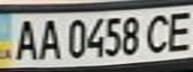0: (63, 16, 87, 60)
4: (84, 15, 109, 58)
5: (103, 14, 124, 57)
8: (121, 12, 145, 56)
A: (6, 16, 42, 62), (33, 16, 63, 61)
C: (142, 11, 175, 55)
E: (163, 8, 193, 54)
